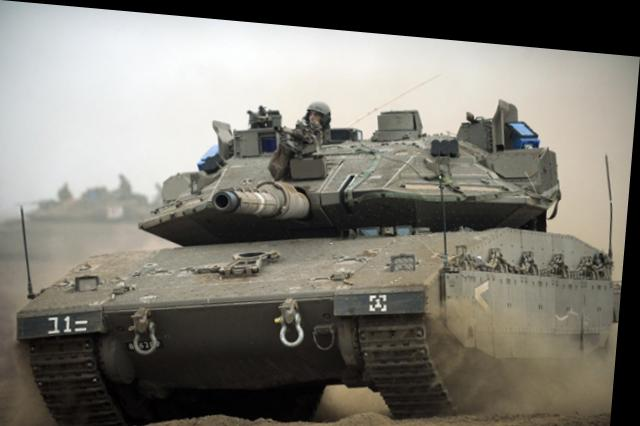other: (274, 80, 350, 151)
tank: (12, 57, 627, 424)
